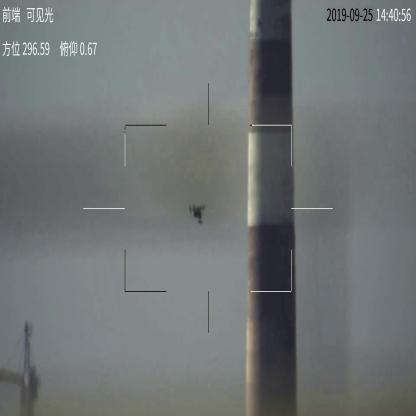uav: (187, 202, 209, 227)
